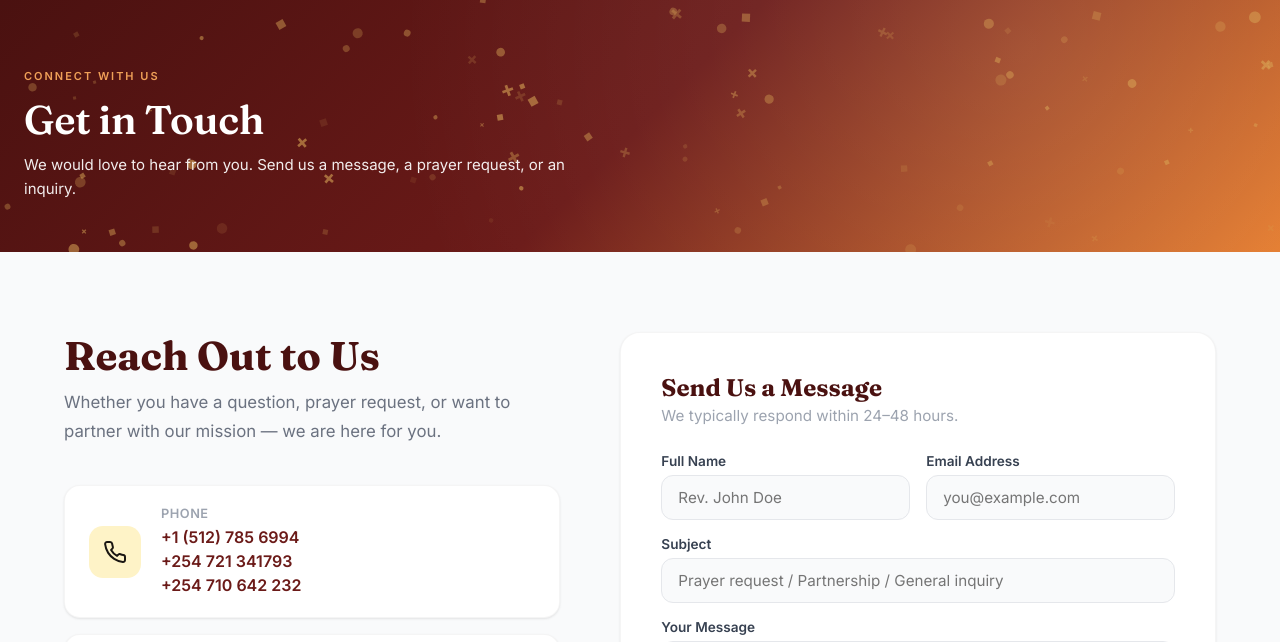
ContactPage › shows success message after form submission
In the field labelled "Full Name": (786, 498) [661,475,910,520], type "John Doe"
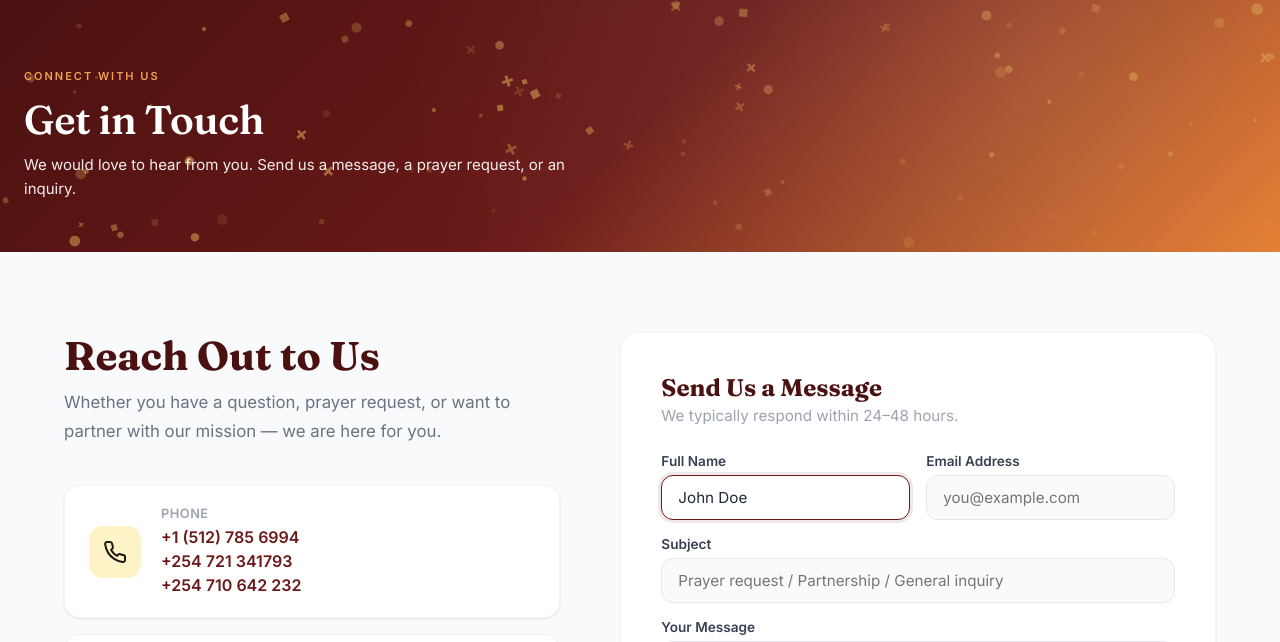
In the field labelled "Email Address": (1051, 498) [926,475,1175,520], type "john@example.com"
(page scrolled)
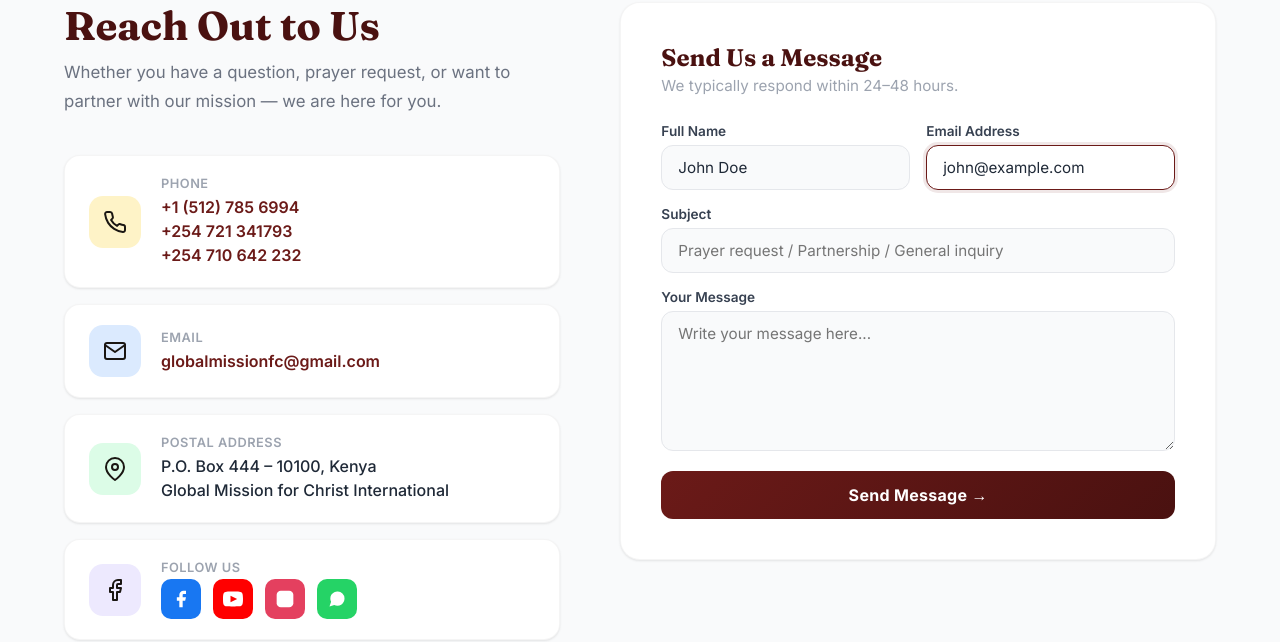
In the text box labelled "Your Message": (918, 381) [661,311,1175,451], type "Hello world"
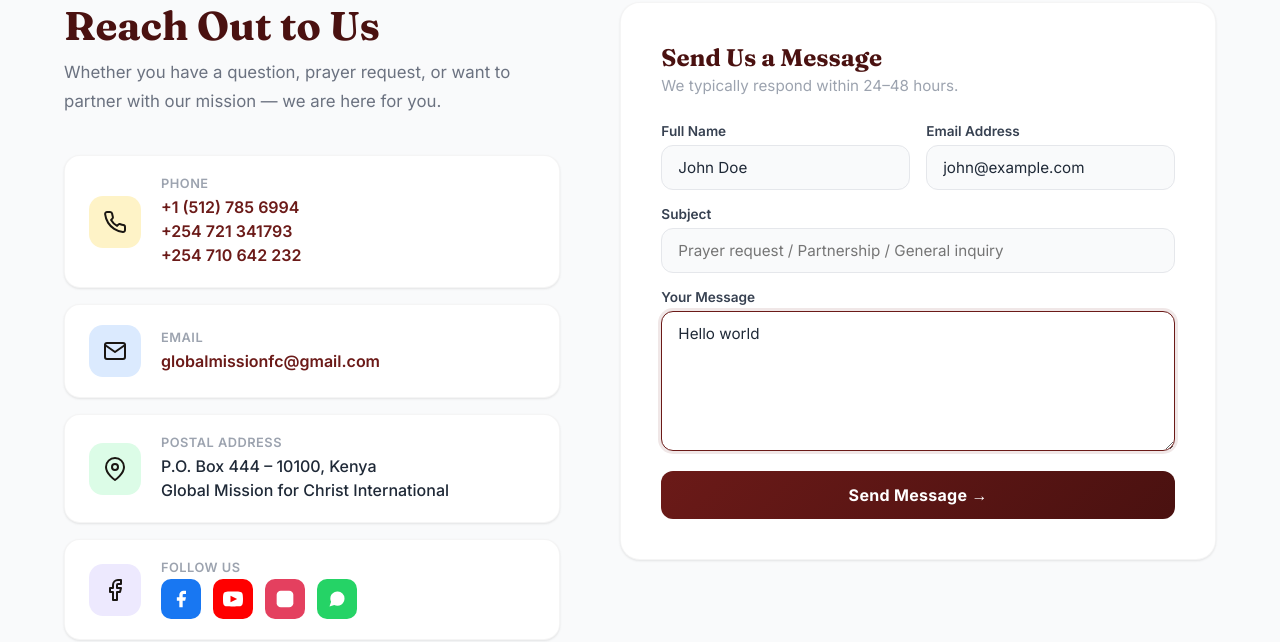
Click the button "Send Message →": (918, 495) [661,471,1175,519]
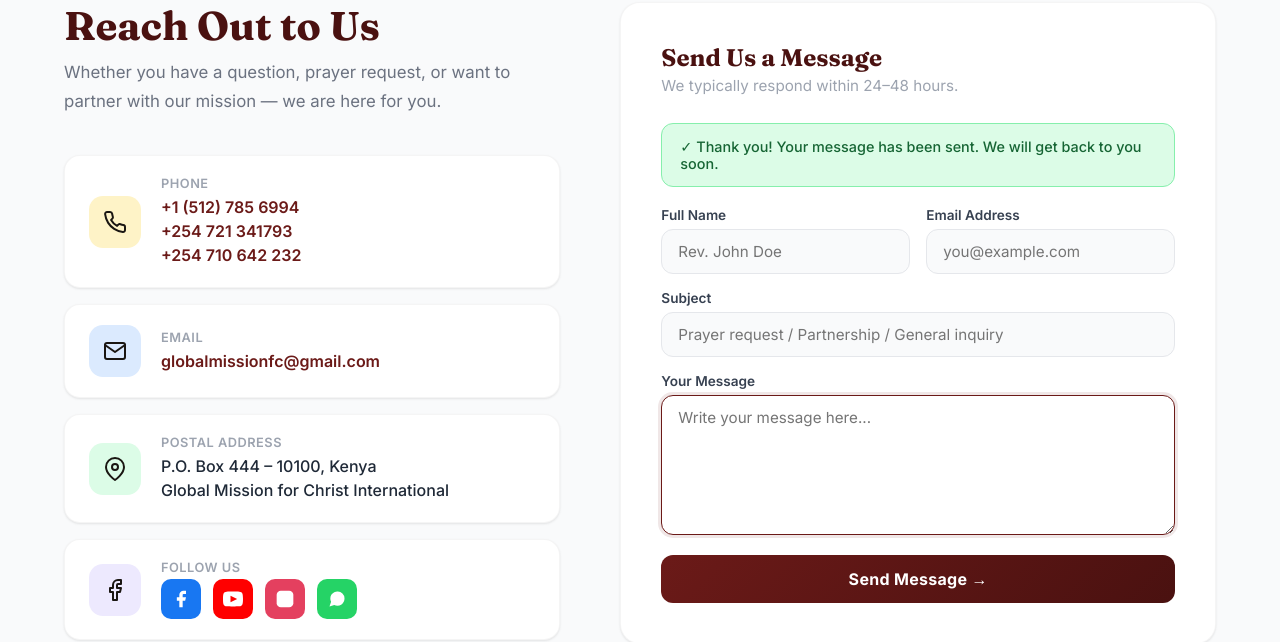
Expected: the text "Thank you" is shown, [680,138,1142,172]
